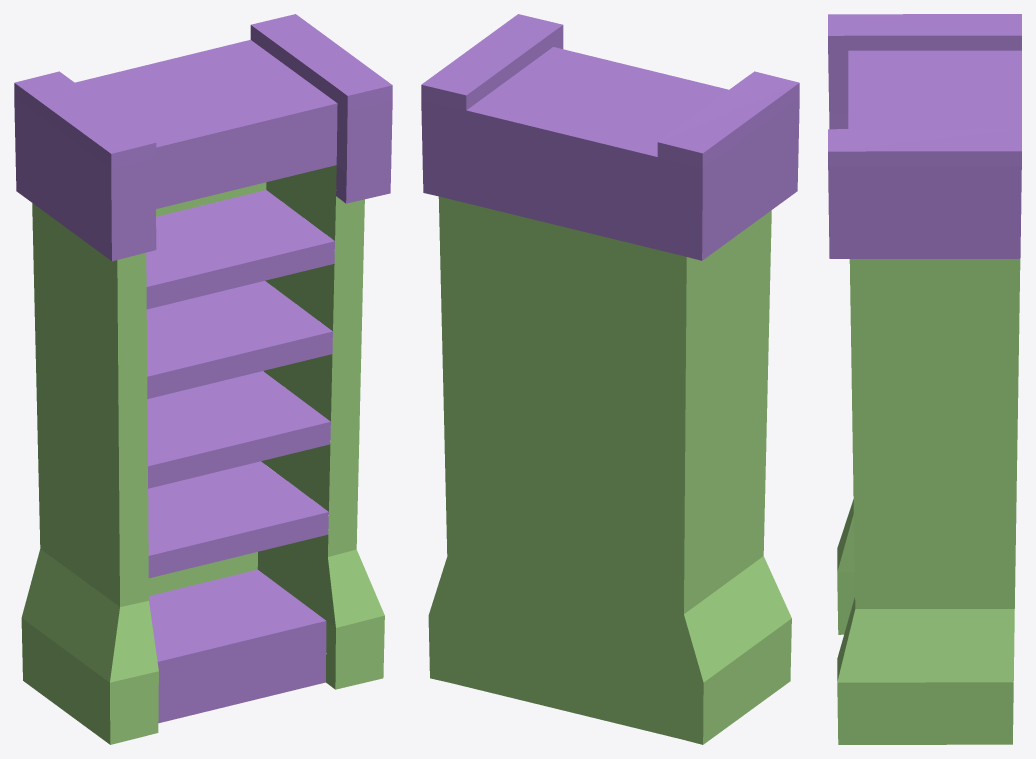
File: BookCase.glb
3 renders of one model, left to right at view 1: azimuth 30°, elevation 25°; view 2: azimuth 150°, elevation 25°; view 3: azimuth 270°, elevation 25°, orthographic.
Parts seen in each view (by area): view 1: BookCase_0, BookCase_1; view 2: BookCase_1, BookCase_0; view 3: BookCase_1, BookCase_0.
Part boxes in pixels (x1,y1,x2,y2): BookCase_0: (14, 14, 392, 723); BookCase_1: (21, 165, 384, 744); BookCase_1: (428, 196, 791, 744); BookCase_0: (421, 14, 799, 260); BookCase_1: (837, 259, 1020, 744); BookCase_0: (828, 14, 1021, 258).
Bounding box in the file's own units: 0.7576 × 1.53 × 0.4519.
